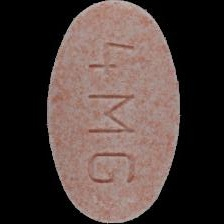13668-079: (0, 0, 224, 224)
